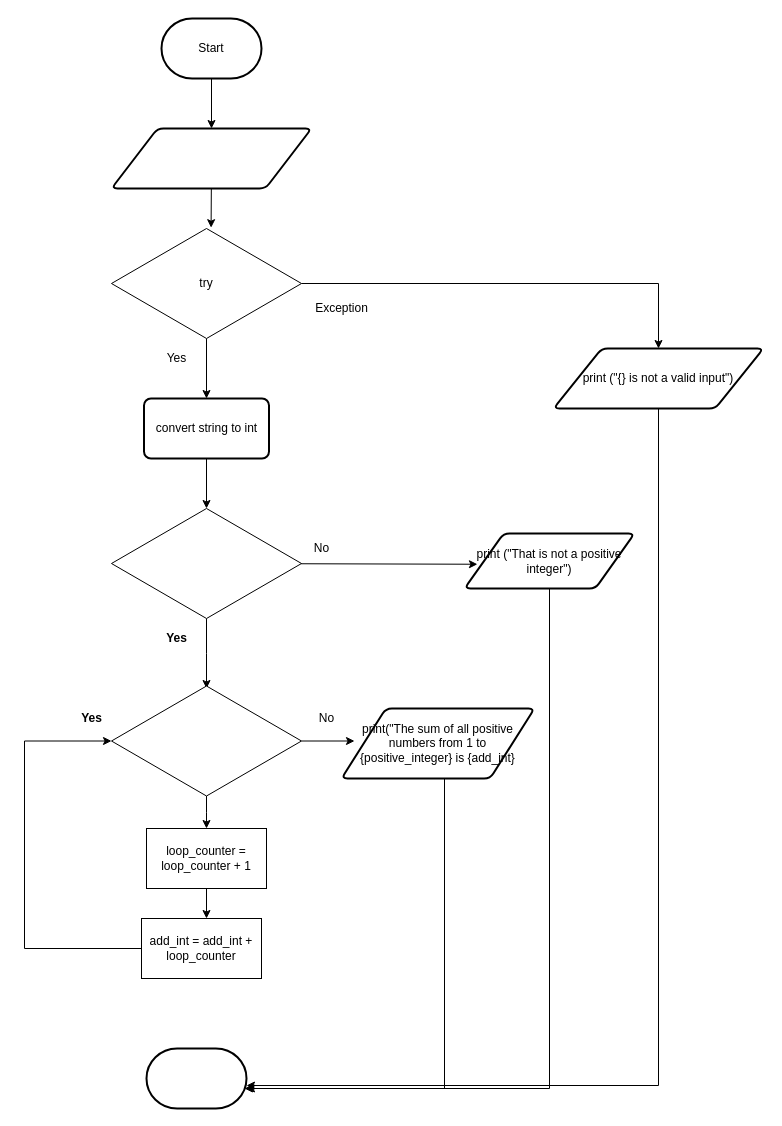
The diagram is 782 pixels wide and 1126 high, and some of its shapes have lost their labels. Here are the shapes that lost their labels. From the top down, the box of each, then its label:
(110, 127, 312, 189): Get positive_string
(110, 508, 302, 618): if positive_integer> 0
(110, 685, 302, 796): while (loop _counter < positive integer)
(145, 1047, 247, 1109): Stop
